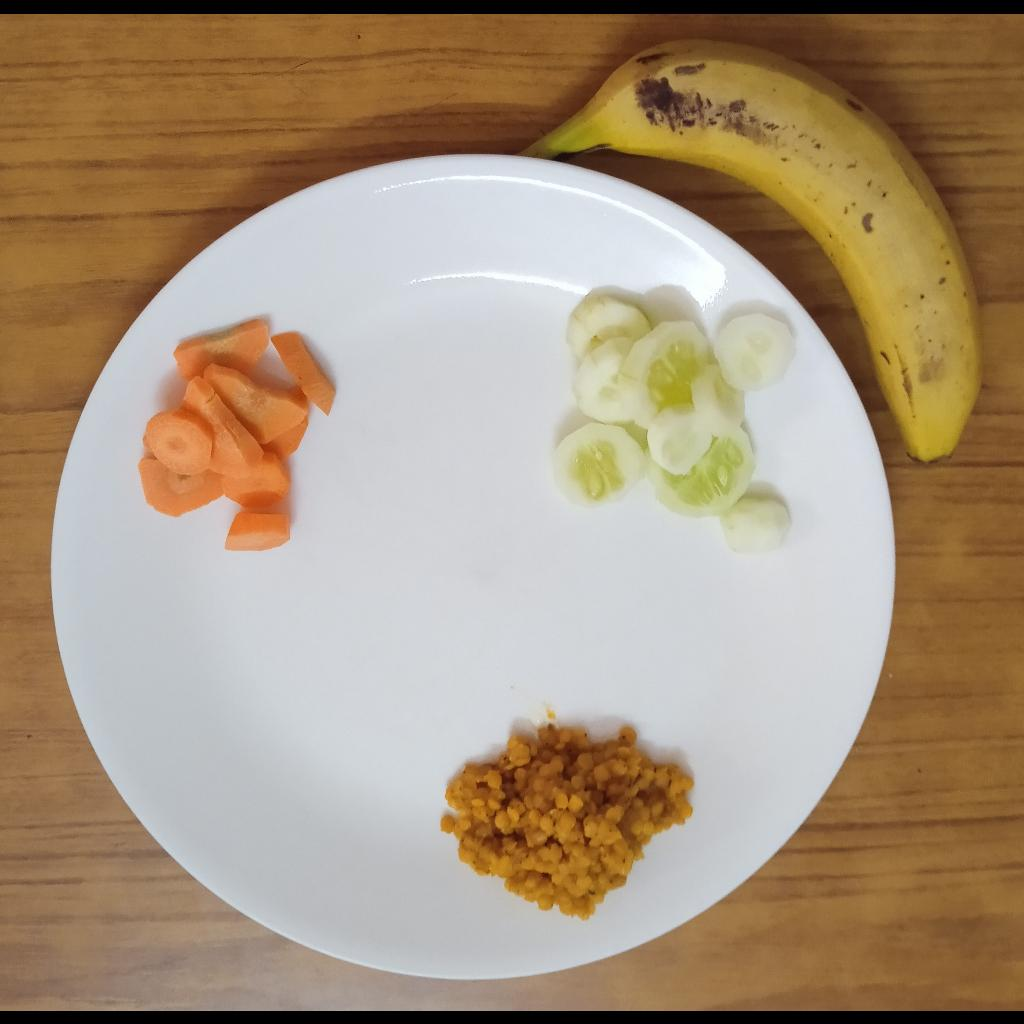banana: (517, 38, 984, 465)
carrot: (136, 318, 337, 550)
cucumber: (551, 291, 797, 555)
daal: (438, 722, 695, 917)
